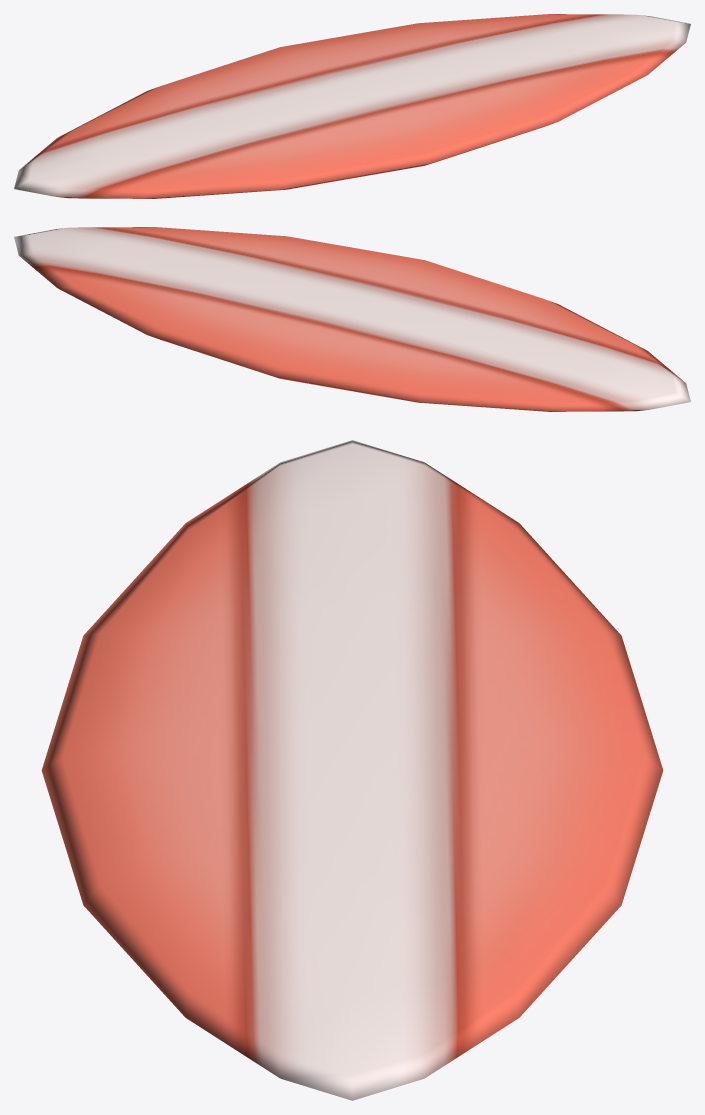
File: surfingboard.fbx
3 renders of one model, top to bottom at view 1: azimuth 30°, elevation 25°; view 2: azimuth 150°, elevation 25°; view 3: azimuth 270°, elevation 25°, orthographic. The views are drawn at different scales.
Visible parts, largest first — view 1: surfingboard; view 2: surfingboard; view 3: surfingboard.
Part boxes in pixels (left/top/right/bottom): surfingboard: left=14, top=14, right=690, bottom=198; surfingboard: left=14, top=227, right=690, bottom=411; surfingboard: left=41, top=440, right=663, bottom=1100.
Size of the model in its own units: 356 by 15.41 by 141.
